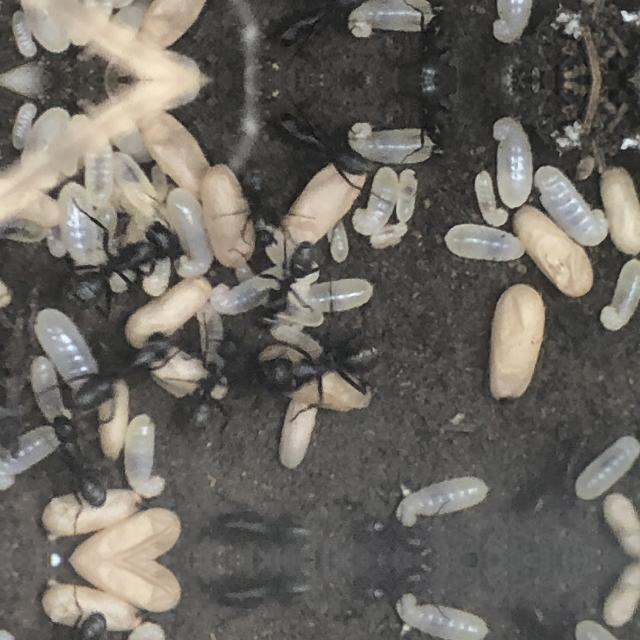Camponotus: (48, 192, 180, 328), (154, 322, 266, 466), (69, 296, 203, 414), (245, 313, 400, 413), (259, 94, 401, 194), (500, 412, 602, 520), (36, 402, 126, 522), (333, 489, 483, 559), (333, 561, 483, 631), (216, 142, 302, 260), (259, 0, 401, 64), (228, 240, 330, 328), (208, 482, 329, 554), (208, 566, 329, 638), (396, 80, 464, 178), (394, 0, 464, 80), (500, 600, 602, 640), (36, 596, 124, 640)
